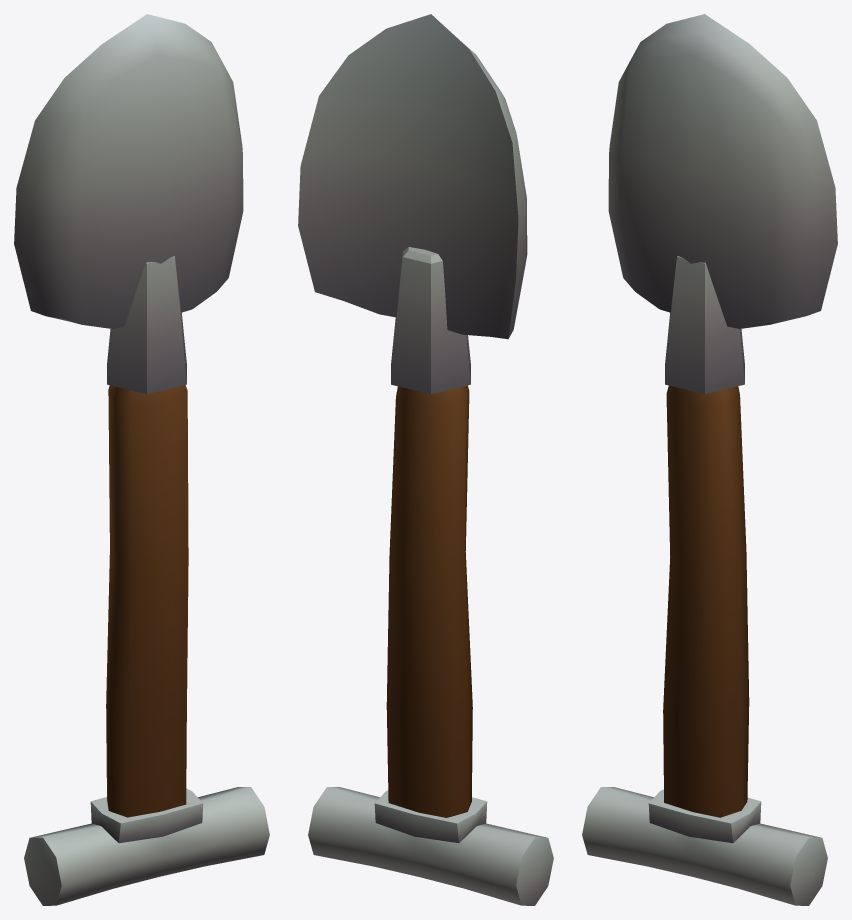
The model's file is Shovel_03.obj.
3 views of the same model, side by side, from view 1: azimuth 30°, elevation 25°; view 2: azimuth 150°, elevation 25°; view 3: azimuth 330°, elevation 25° (orthographic).
Visible parts, largest first — view 1: Shovel_03; view 2: Shovel_03; view 3: Shovel_03.
Part boxes in pixels (bbox=[...]): Shovel_03: bbox=[14, 14, 269, 905]; Shovel_03: bbox=[298, 14, 553, 905]; Shovel_03: bbox=[582, 14, 837, 905].
Bounding box in the file's own units: 0.2955 × 1.12 × 0.1032.
